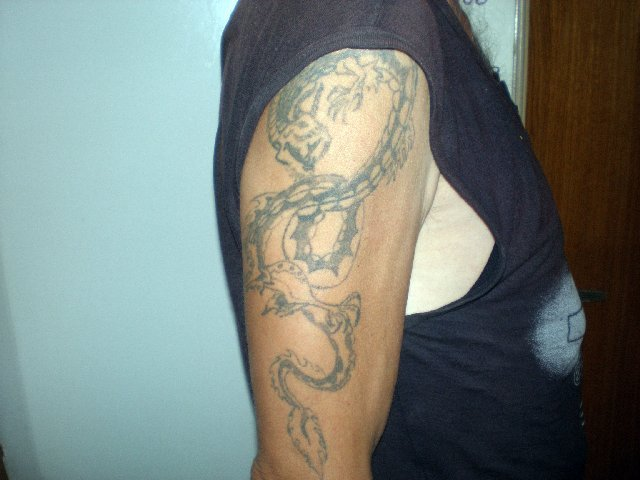tatu4_zvezda: (255, 32, 451, 459)
